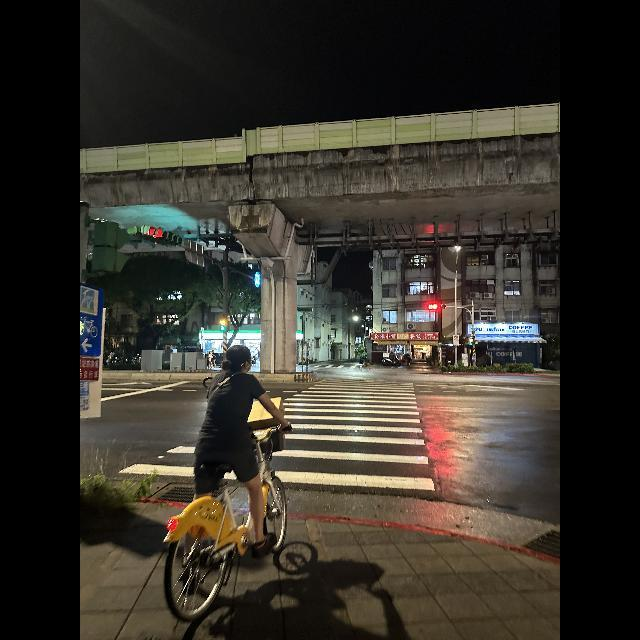sidewalk: (106, 375, 437, 527)
